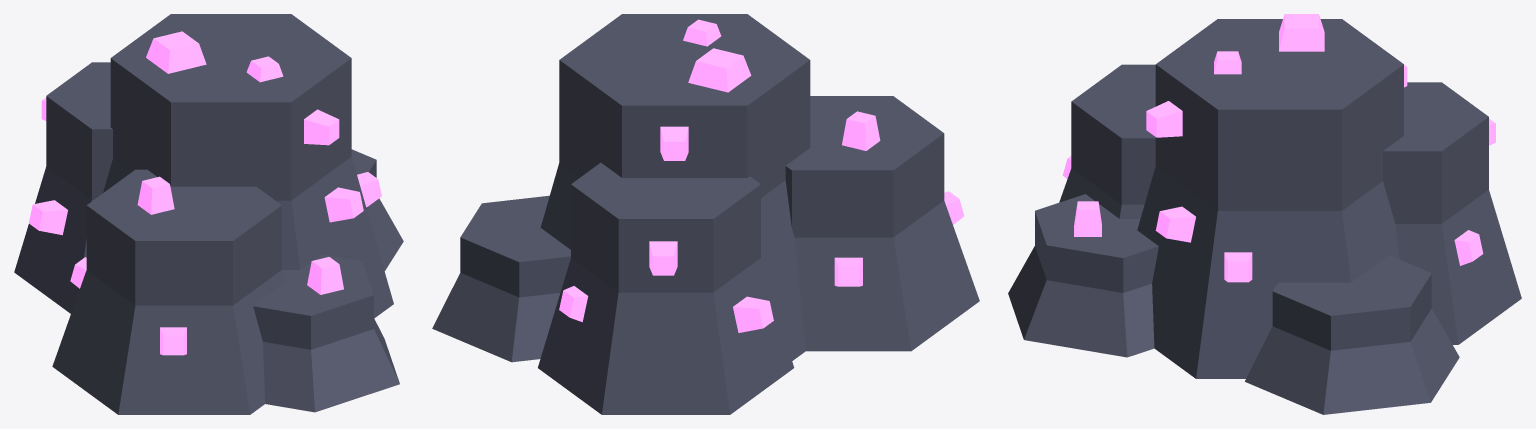
The model's file is rock_crystalsLargeA.glb.
3 renders of one model, left to right at view 1: azimuth 30°, elevation 25°; view 2: azimuth 150°, elevation 25°; view 3: azimuth 270°, elevation 25°, orthographic. The views are drawn at different scales.
Parts seen in each view (by area): view 1: rock_crystalsLargeA; view 2: rock_crystalsLargeA; view 3: rock_crystalsLargeA.
Part boxes in pixels (x1,y1,x2,y2): rock_crystalsLargeA: (14, 14, 403, 414); rock_crystalsLargeA: (432, 14, 979, 414); rock_crystalsLargeA: (1008, 14, 1521, 414).
Bounding box in the file's own units: 0.8339 × 0.541 × 0.9193.
